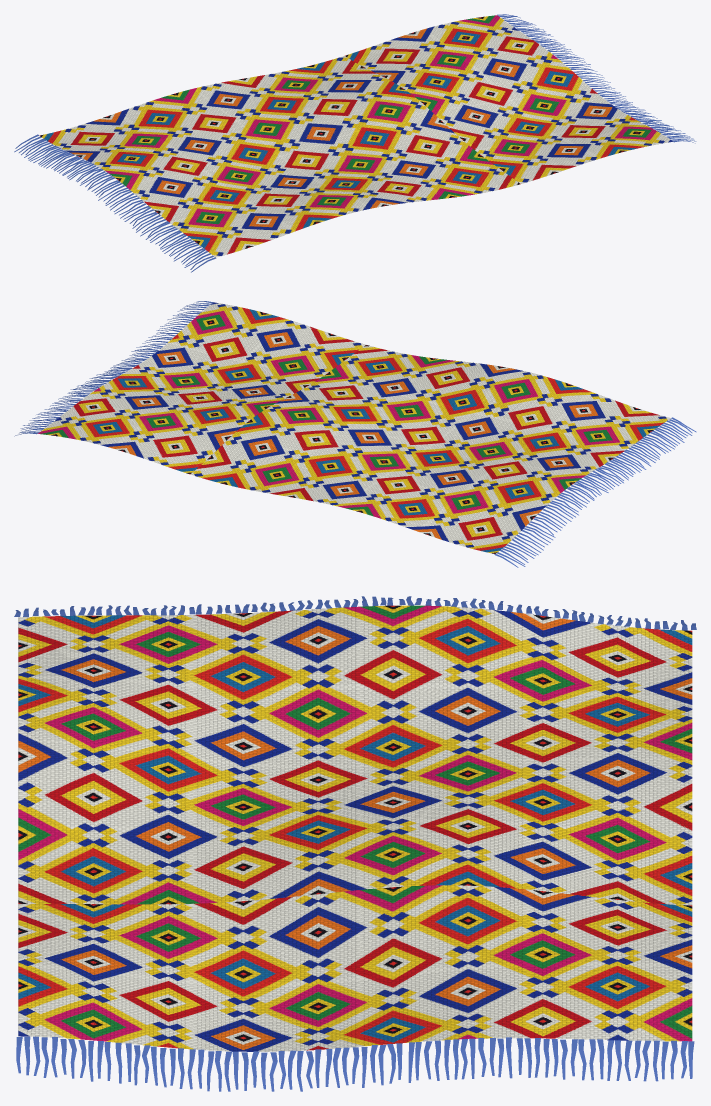
File: cloth_final.glb
The picture shows the model from 3 angles, top to bottom: view 1: azimuth 30°, elevation 25°; view 2: azimuth 150°, elevation 25°; view 3: azimuth 270°, elevation 25°; orthographic projection. The views are drawn at different scales.
Visible parts, largest first — view 1: Cloth, Fringe; view 2: Cloth, Fringe; view 3: Cloth, Fringe.
Boxes of the visible parts, left/top/right/bottom form: Cloth: left=39, top=15, right=672, bottom=257; Fringe: left=14, top=14, right=696, bottom=272; Cloth: left=38, top=302, right=670, bottom=553; Fringe: left=14, top=301, right=696, bottom=567; Cloth: left=18, top=605, right=692, bottom=1051; Fringe: left=14, top=596, right=696, bottom=1091.
Size of the model in its own units: 6.72 by 0.3285 by 4.05.
Materials: 2 (1 with a texture image).
